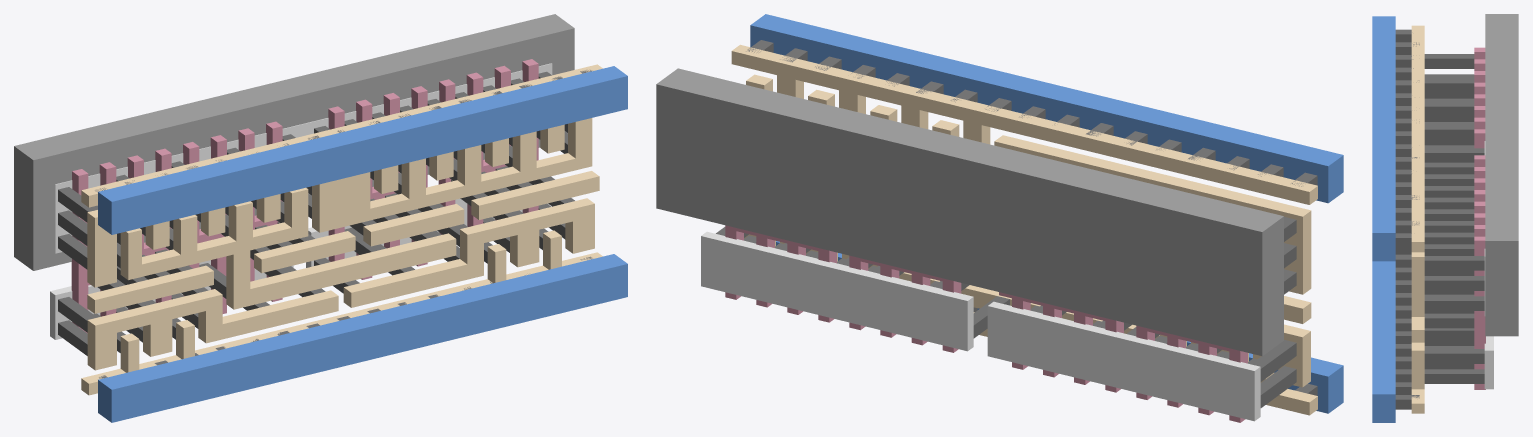
File: sky130_fd_sc_hd__a22oi_4.gds.gltf
3 renders of one model, left to right at view 1: azimuth 30°, elevation 25°; view 2: azimuth 150°, elevation 25°; view 3: azimuth 270°, elevation 25°, orthographic. The views are drawn at different scales.
Parts seen in each view (by area): view 1: sky130_fd_sc_hd__a22oi_4_li1, sky130_fd_sc_hd__a22oi_4_met1, sky130_fd_sc_hd__a22oi_4_nwell, sky130_fd_sc_hd__a22oi_4_licon, sky130_fd_sc_hd__a22oi_4_poly, sky130_fd_sc_hd__a22oi_4_diff, sky130_fd_sc_hd__a22oi_4_mcon; view 2: sky130_fd_sc_hd__a22oi_4_nwell, sky130_fd_sc_hd__a22oi_4_diff, sky130_fd_sc_hd__a22oi_4_li1, sky130_fd_sc_hd__a22oi_4_met1, sky130_fd_sc_hd__a22oi_4_poly, sky130_fd_sc_hd__a22oi_4_licon, sky130_fd_sc_hd__a22oi_4_mcon; view 3: sky130_fd_sc_hd__a22oi_4_licon, sky130_fd_sc_hd__a22oi_4_nwell, sky130_fd_sc_hd__a22oi_4_met1, sky130_fd_sc_hd__a22oi_4_mcon, sky130_fd_sc_hd__a22oi_4_li1, sky130_fd_sc_hd__a22oi_4_poly, sky130_fd_sc_hd__a22oi_4_diff.
Boxes of the visible parts, x1=… form: sky130_fd_sc_hd__a22oi_4_li1: x1=81, y1=64, x2=602, y2=395; sky130_fd_sc_hd__a22oi_4_met1: x1=98, y1=66, x2=627, y2=422; sky130_fd_sc_hd__a22oi_4_nwell: x1=14, y1=14, x2=574, y2=270; sky130_fd_sc_hd__a22oi_4_licon: x1=58, y1=71, x2=574, y2=355; sky130_fd_sc_hd__a22oi_4_poly: x1=71, y1=59, x2=538, y2=333; sky130_fd_sc_hd__a22oi_4_diff: x1=50, y1=63, x2=552, y2=339; sky130_fd_sc_hd__a22oi_4_mcon: x1=95, y1=70, x2=592, y2=378; sky130_fd_sc_hd__a22oi_4_nwell: x1=656, y1=68, x2=1283, y2=356; sky130_fd_sc_hd__a22oi_4_diff: x1=701, y1=231, x2=1260, y2=421; sky130_fd_sc_hd__a22oi_4_li1: x1=731, y1=44, x2=1317, y2=415; sky130_fd_sc_hd__a22oi_4_met1: x1=750, y1=14, x2=1343, y2=413; sky130_fd_sc_hd__a22oi_4_poly: x1=725, y1=225, x2=1247, y2=422; sky130_fd_sc_hd__a22oi_4_licon: x1=716, y1=217, x2=1296, y2=407; sky130_fd_sc_hd__a22oi_4_mcon: x1=746, y1=40, x2=1317, y2=395; sky130_fd_sc_hd__a22oi_4_licon: x1=1424, y1=54, x2=1484, y2=383; sky130_fd_sc_hd__a22oi_4_nwell: x1=1485, y1=14, x2=1518, y2=336; sky130_fd_sc_hd__a22oi_4_met1: x1=1372, y1=16, x2=1395, y2=422; sky130_fd_sc_hd__a22oi_4_mcon: x1=1395, y1=29, x2=1419, y2=409; sky130_fd_sc_hd__a22oi_4_li1: x1=1411, y1=25, x2=1424, y2=413; sky130_fd_sc_hd__a22oi_4_poly: x1=1474, y1=47, x2=1485, y2=389; sky130_fd_sc_hd__a22oi_4_diff: x1=1484, y1=141, x2=1493, y2=389.
Size of the model in its own units: 8.2 by 3.2 by 2.24.
